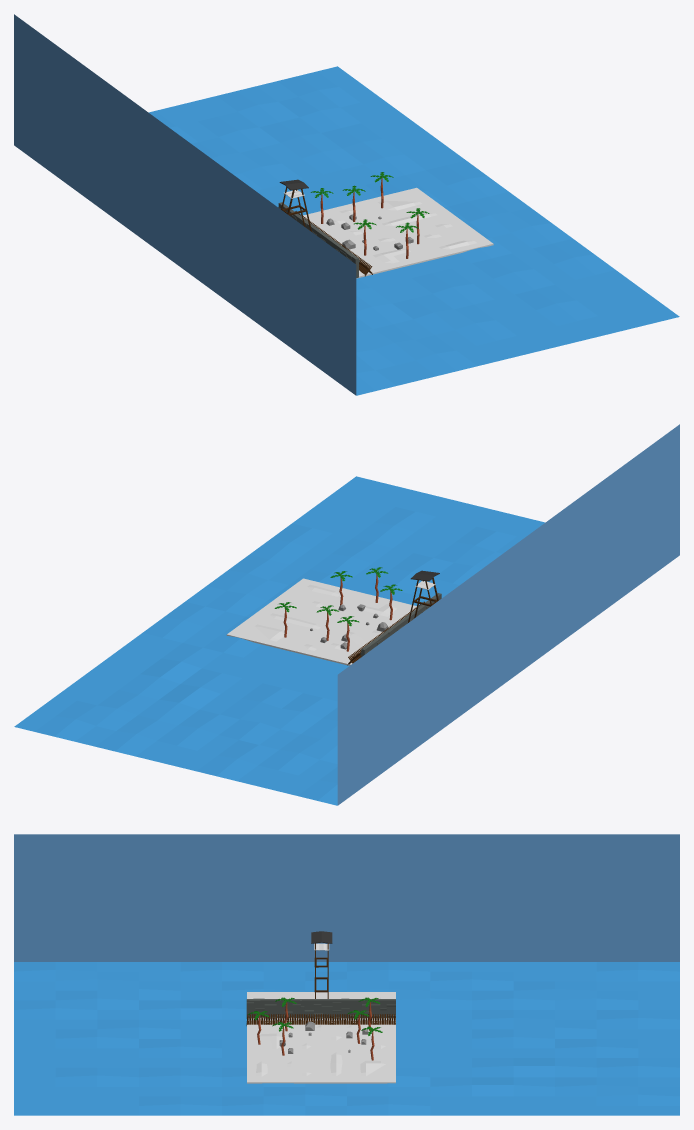
The model's file is Tower_Rangers 1.fbx.
The picture shows the model from 3 angles, top to bottom: view 1: azimuth 30°, elevation 25°; view 2: azimuth 150°, elevation 25°; view 3: azimuth 270°, elevation 25°; orthographic projection. The views are drawn at different scales.
Parts seen in each view (by area): view 1: Plane, Cube, Cube.001; view 2: Plane, Cube, Cube.001; view 3: Plane, Cube, Cube.001, Circle.002.
Boxes of the visible parts, <box> form: Plane: <box>14,14,679,395</box>; Cube: <box>303,187,493,278</box>; Cube.001: <box>278,202,359,277</box>; Plane: <box>14,424,679,805</box>; Cube: <box>226,578,416,665</box>; Cube.001: <box>360,593,441,656</box>; Plane: <box>14,834,679,1115</box>; Cube: <box>247,992,395,1083</box>; Cube.001: <box>246,998,395,1018</box>; Circle.002: <box>246,1014,395,1025</box>.
Size of the model in its own units: 59876 by 23245 by 109648.
